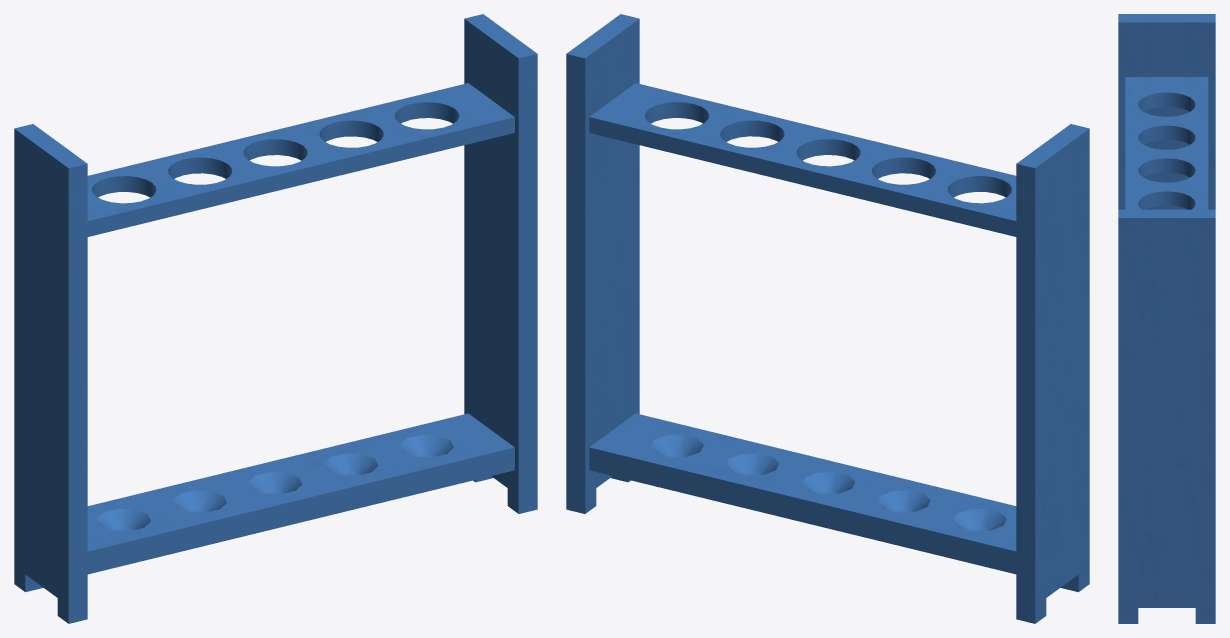
File: Tubes_Stand.fbx
3 views of the same model, side by side, from view 1: azimuth 30°, elevation 25°; view 2: azimuth 150°, elevation 25°; view 3: azimuth 270°, elevation 25° (orthographic). The views are drawn at different scales.
Visible parts, largest first — view 1: Tubes_stand_LOD0, Tubes_stand_Colldr; view 2: Tubes_stand_LOD0, Tubes_stand_Colldr; view 3: Tubes_stand_LOD0, Tubes_stand_Colldr.
Boxes of the visible parts, x1=… form: Tubes_stand_LOD0: x1=14, y1=37, x2=537, y2=623; Tubes_stand_Colldr: x1=14, y1=14, x2=537, y2=550; Tubes_stand_LOD0: x1=566, y1=27, x2=1089, y2=623; Tubes_stand_Colldr: x1=566, y1=14, x2=1089, y2=551; Tubes_stand_LOD0: x1=1118, y1=14, x2=1215, y2=623; Tubes_stand_Colldr: x1=1118, y1=14, x2=1215, y2=623.
Size of what is drawn, in the model's own units: 24.75 by 22.97 by 4.98.
Materials: 1 (1 with a texture image).
